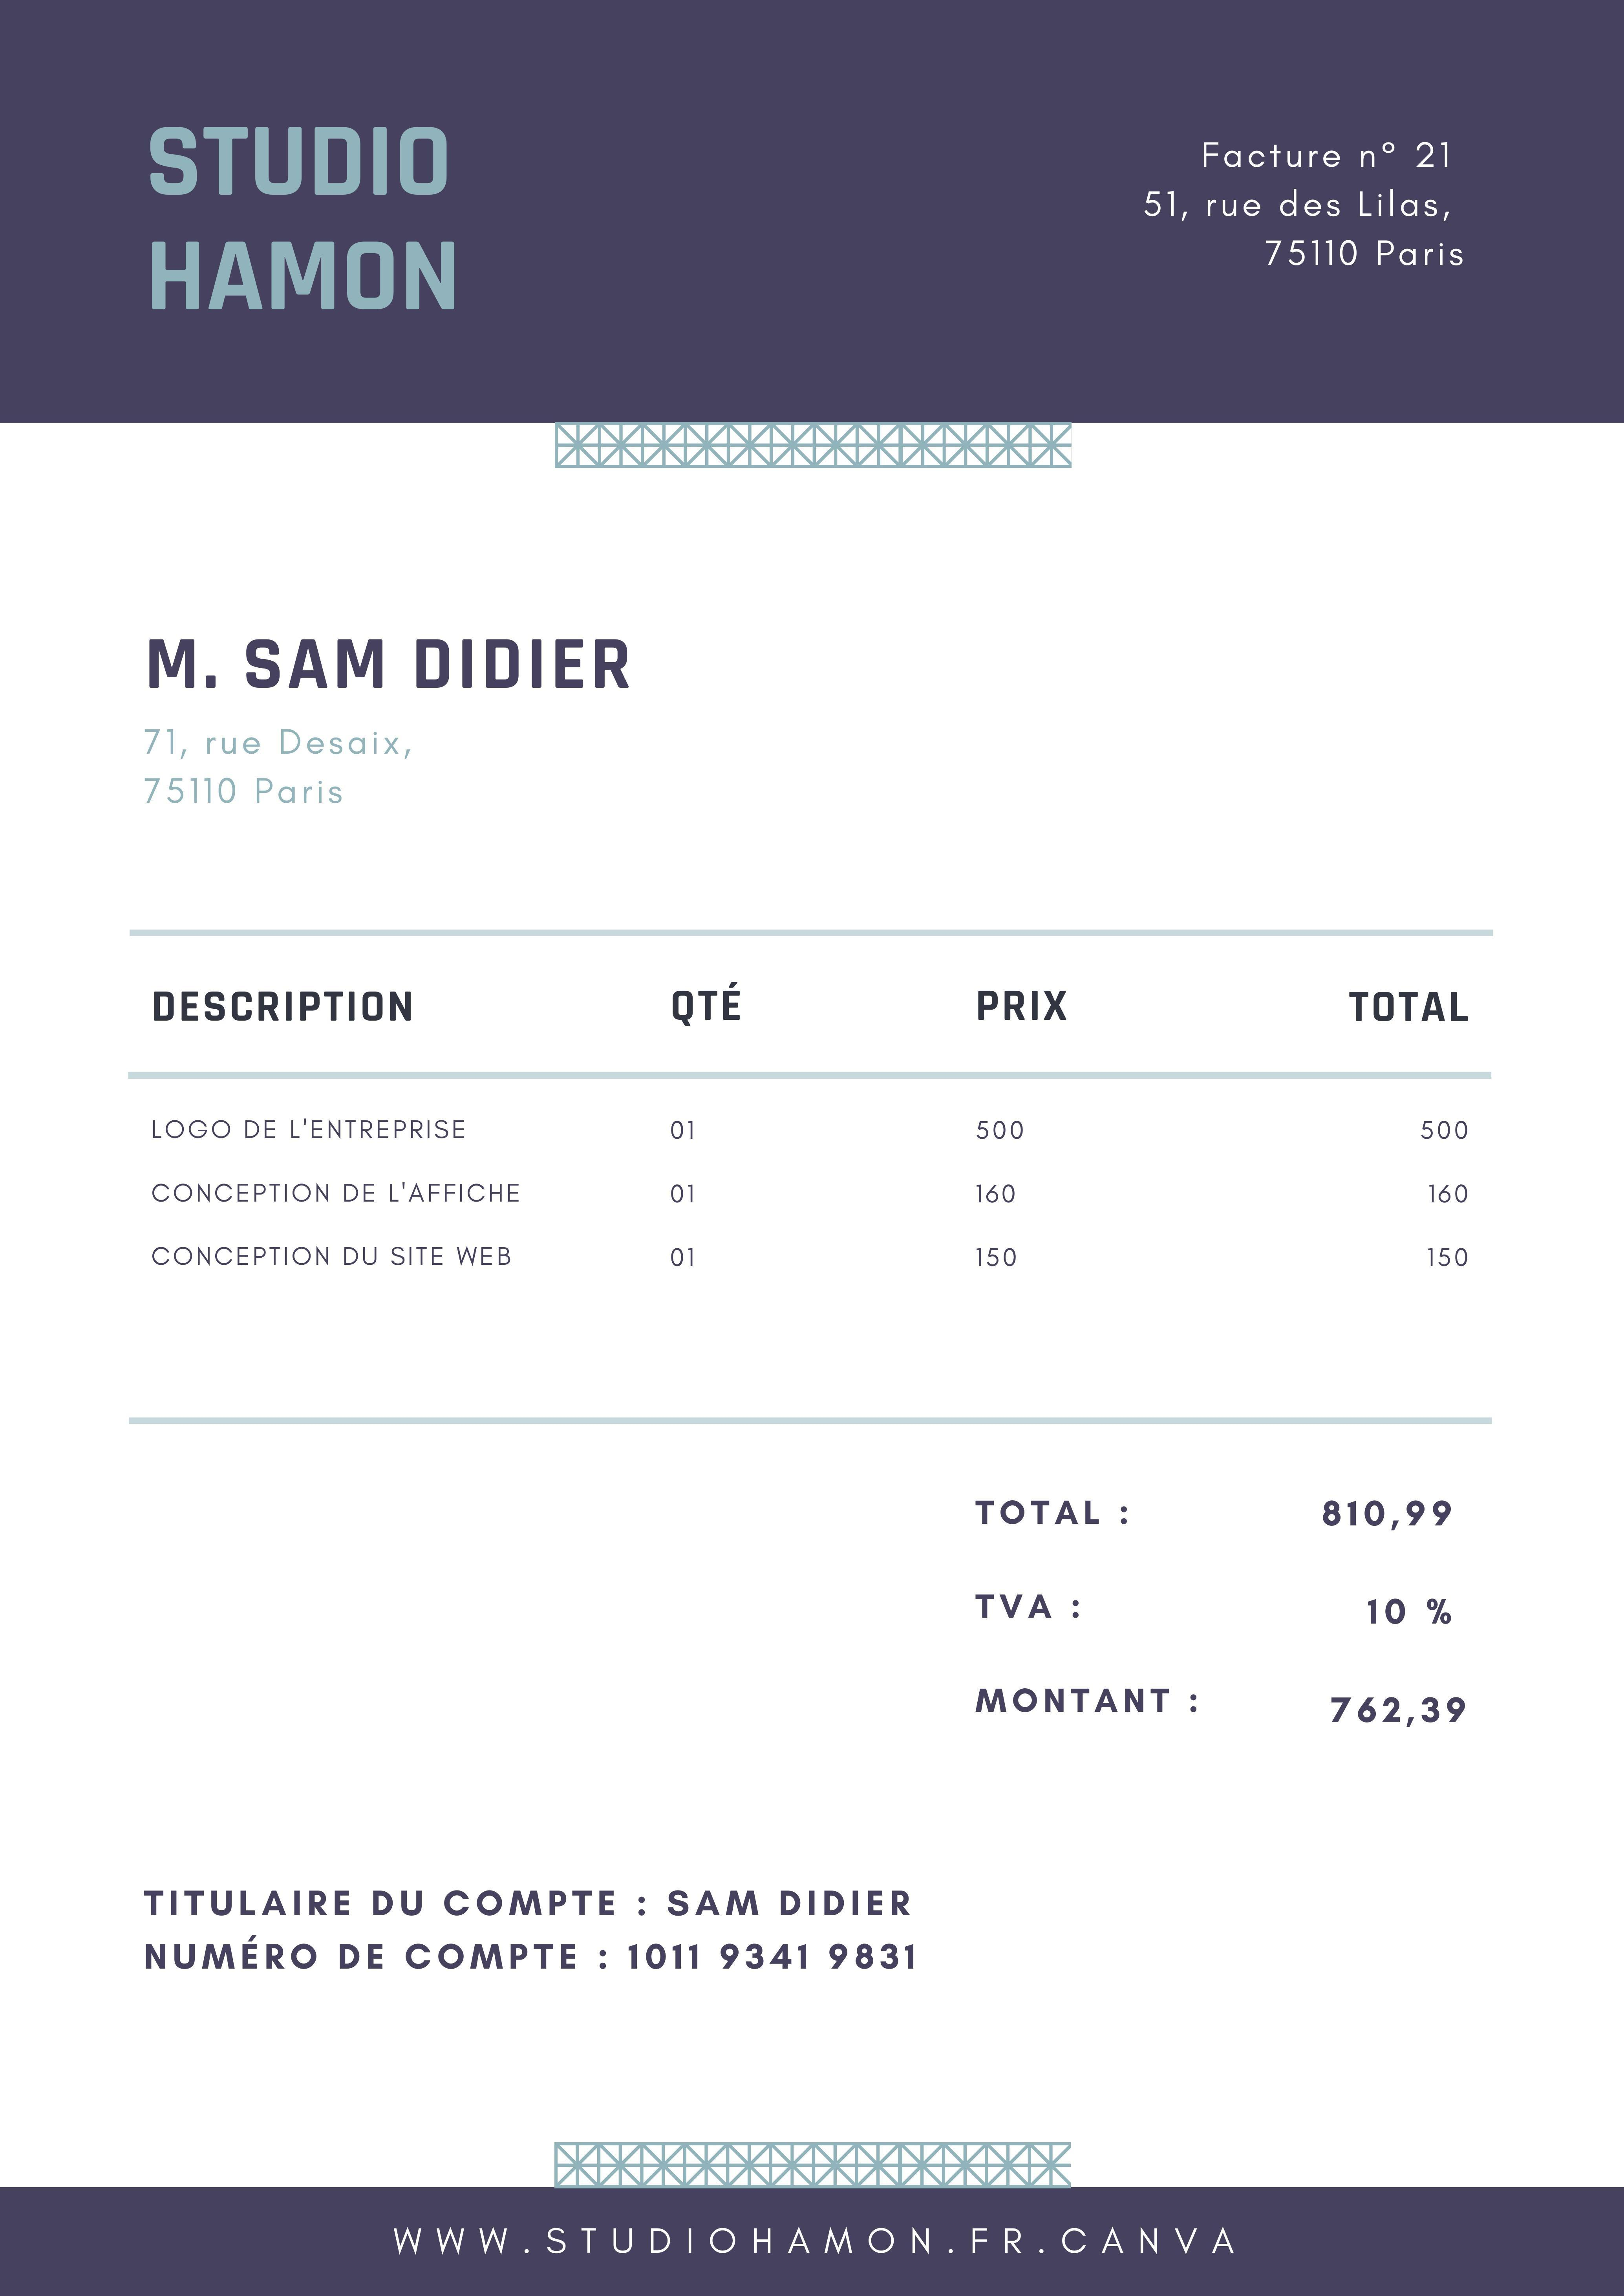ROI: (123, 929, 1503, 1414), (954, 1474, 1485, 1757), (118, 596, 682, 831), (134, 102, 562, 327), (135, 1878, 940, 1989), (1188, 116, 1459, 172)
